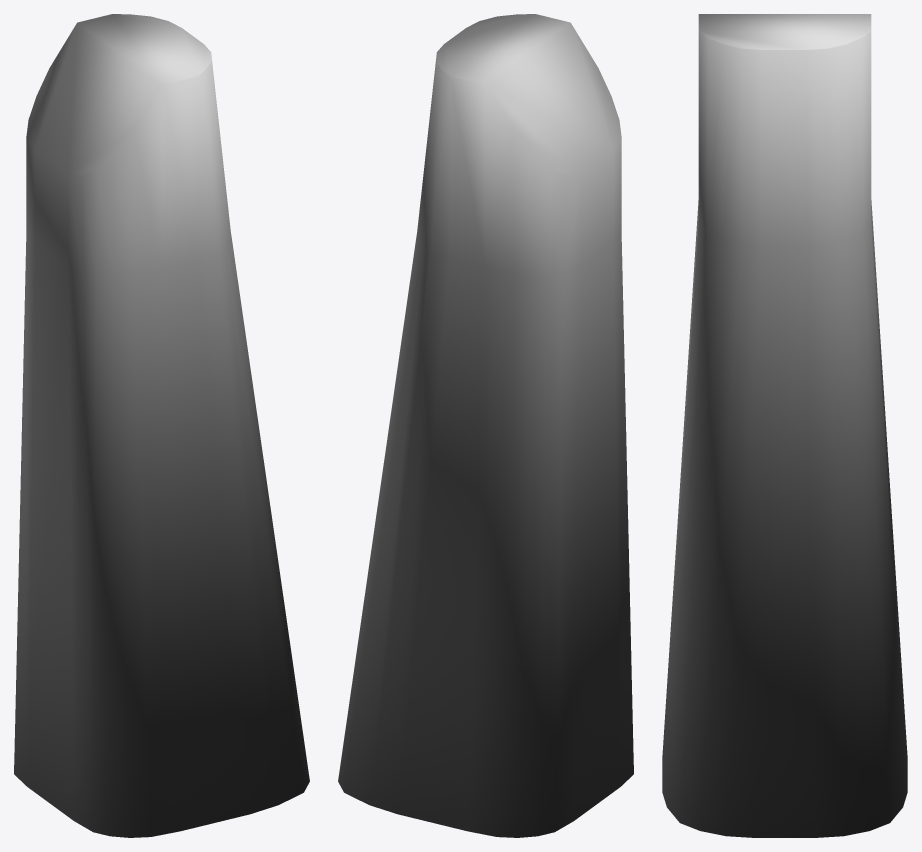
File: torso.dae
3 views of the same model, side by side, from view 1: azimuth 30°, elevation 25°; view 2: azimuth 150°, elevation 25°; view 3: azimuth 270°, elevation 25° (orthographic).
Visible parts, largest first — view 1: torso; view 2: torso; view 3: torso.
Boxes of the visible parts, <box> form: torso: <box>14,14,309,837</box>; torso: <box>338,14,633,837</box>; torso: <box>662,14,907,837</box>.
Size of the model in its own units: 0.2643 by 0.2391 by 0.8.
Materials: 1 (1 with a texture image).
